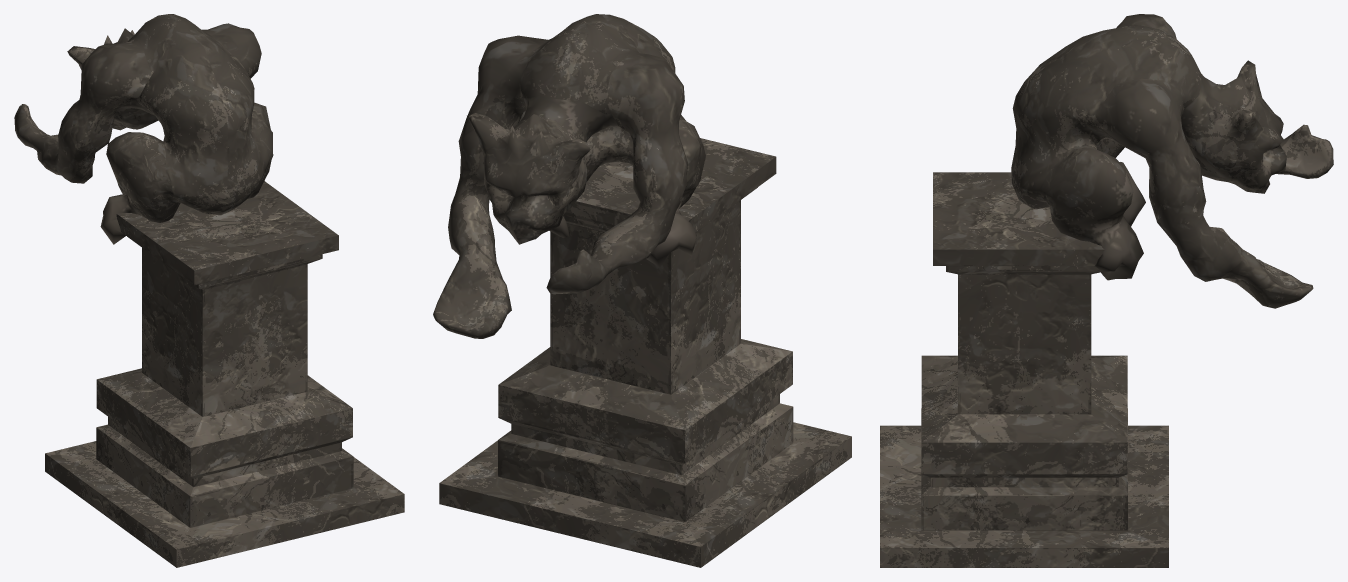
File: SM_PRP_GargoyleStand_LeftArm.fbx
3 renders of one model, left to right at view 1: azimuth 30°, elevation 25°; view 2: azimuth 150°, elevation 25°; view 3: azimuth 270°, elevation 25°, orthographic. The views are drawn at different scales.
Parts seen in each view (by area): view 1: m_GargoyleStand_low; view 2: m_GargoyleStand_low; view 3: m_GargoyleStand_low.
Boxes of the visible parts, box(x1,y1,x2,y2) form: m_GargoyleStand_low: box(14, 14, 404, 567); m_GargoyleStand_low: box(433, 14, 851, 567); m_GargoyleStand_low: box(880, 14, 1333, 567).
Bounding box in the file's own units: 318 × 580 × 500.
1 material, 1 textured.
